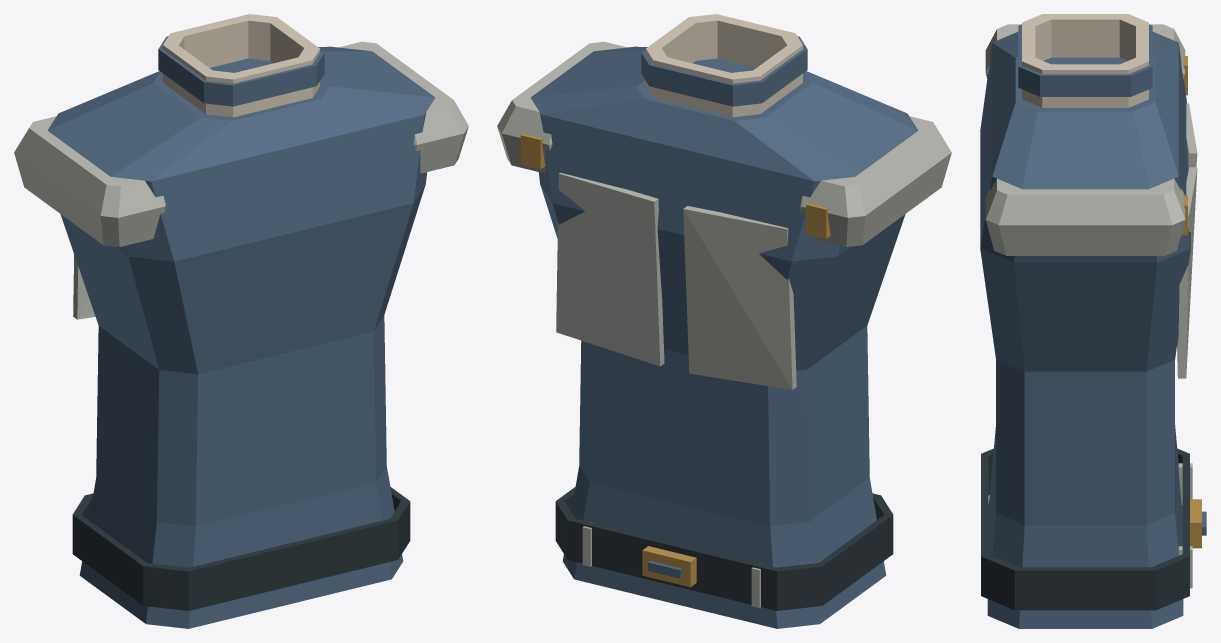
3 views of the same model, side by side, from view 1: azimuth 30°, elevation 25°; view 2: azimuth 150°, elevation 25°; view 3: azimuth 270°, elevation 25° (orthographic).
Visible parts, largest first — view 1: 现有程序躯干 · 同用途配色; view 2: 现有程序躯干 · 同用途配色; view 3: 现有程序躯干 · 同用途配色.
Boxes of the visible parts, bbox=[...] form: 现有程序躯干 · 同用途配色: bbox=[14, 14, 468, 628]; 现有程序躯干 · 同用途配色: bbox=[497, 14, 951, 628]; 现有程序躯干 · 同用途配色: bbox=[980, 14, 1206, 628].
Size of the model in its own units: 0.458 by 0.62 by 0.243.
5 materials, 5 textured.
